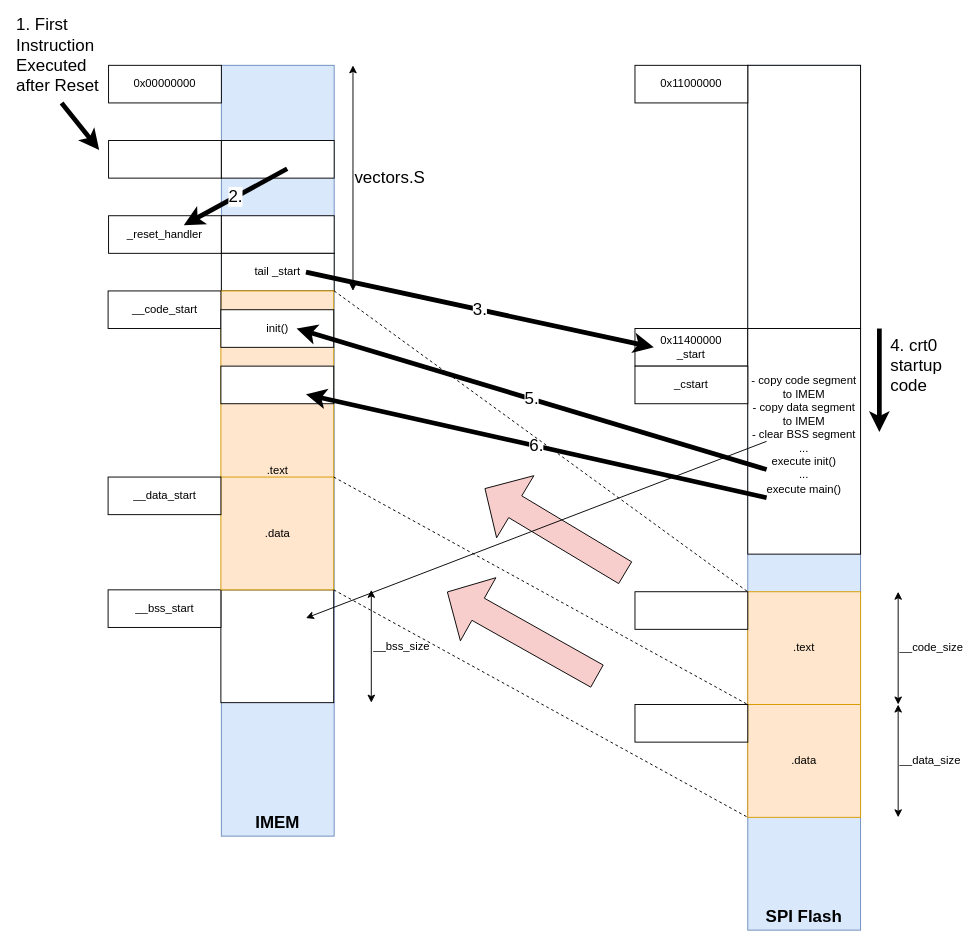
Some shapes in this 979 by 948 pixel diagram are drawn without their labels. Here are the shapes that lost their labels. From the top down, the centre of each, then its label:
(164,159): 0x00000080
(277,159): jal x0, _reset_handler
(804,196): FPGA Bitstream
(277,234): set all regs to 0
(277,384): main()
(691,610): __code_source
(277,646): .tbss .bss
(691,723): __data_source
